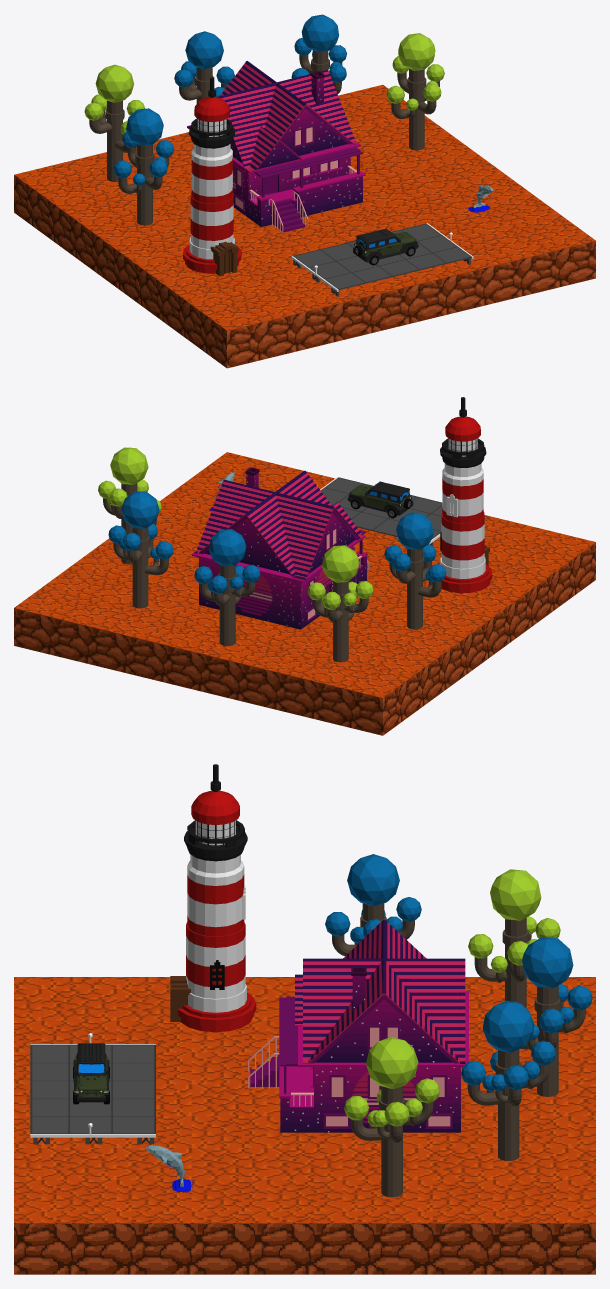
3 views of the same model, one above another, from view 1: azimuth 30°, elevation 25°; view 2: azimuth 150°, elevation 25°; view 3: azimuth 270°, elevation 25° (orthographic). The views are drawn at different scales.
Visible parts, largest first — view 1: Cube.001, Cube.156, OBJRANDOM_LIGHTHOUSE, VEHICLES_JEEP; view 2: Cube.001, Cube.156, OBJRANDOM_LIGHTHOUSE, VEHICLES_JEEP; view 3: Cube.001, Cube.156, OBJRANDOM_LIGHTHOUSE, VEHICLES_JEEP, ANIMAL_DELFIN.
Part boxes in pixels (box(x1,y1,x2,y2)): Cube.001: box(14, 14, 595, 368); Cube.156: box(187, 61, 365, 233); OBJRANDOM_LIGHTHOUSE: box(183, 77, 241, 276); VEHICLES_JEEP: box(353, 228, 418, 265); Cube.001: box(14, 447, 595, 735); Cube.156: box(191, 467, 369, 629); OBJRANDOM_LIGHTHOUSE: box(440, 397, 492, 593); VEHICLES_JEEP: box(347, 481, 413, 518); Cube.001: box(14, 854, 595, 1274); Cube.156: box(248, 919, 468, 1132); OBJRANDOM_LIGHTHOUSE: box(170, 764, 256, 1032); VEHICLES_JEEP: box(73, 1043, 109, 1104); ANIMAL_DELFIN: box(145, 1145, 193, 1192).
Bounding box in the file's own units: 4000 × 2375 × 4000.
Materials: 36 (6 with a texture image).
